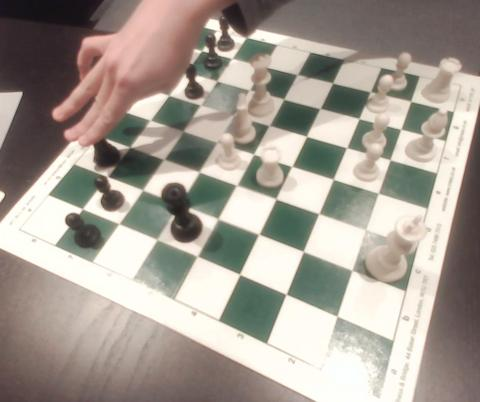xcorner: (281, 289, 296, 304), (134, 182, 149, 197), (299, 245, 314, 260), (192, 163, 207, 178), (315, 206, 330, 221), (176, 122, 191, 137), (211, 133, 226, 148), (248, 145, 263, 160), (162, 86, 177, 101), (264, 116, 279, 131), (292, 66, 307, 81), (365, 84, 380, 99), (74, 202, 89, 216), (110, 217, 125, 231), (149, 233, 163, 248), (234, 269, 248, 284), (332, 311, 347, 325), (211, 212, 226, 226), (348, 264, 362, 279), (122, 139, 137, 153), (156, 151, 171, 165), (272, 191, 286, 206), (143, 112, 158, 126), (330, 171, 344, 186), (374, 186, 389, 200), (194, 96, 209, 110), (228, 106, 243, 120), (302, 128, 317, 142), (343, 139, 357, 154), (385, 152, 400, 166), (180, 63, 194, 78), (211, 72, 226, 86), (279, 90, 293, 105), (316, 100, 330, 115), (354, 111, 369, 125), (196, 42, 210, 57), (226, 50, 241, 64), (258, 58, 273, 72), (405, 94, 419, 109), (190, 251, 204, 265), (100, 169, 114, 183), (172, 197, 186, 211), (254, 228, 268, 242), (231, 177, 245, 191), (362, 223, 376, 237), (288, 158, 302, 172), (244, 81, 258, 95), (396, 122, 410, 136), (328, 75, 342, 89)
